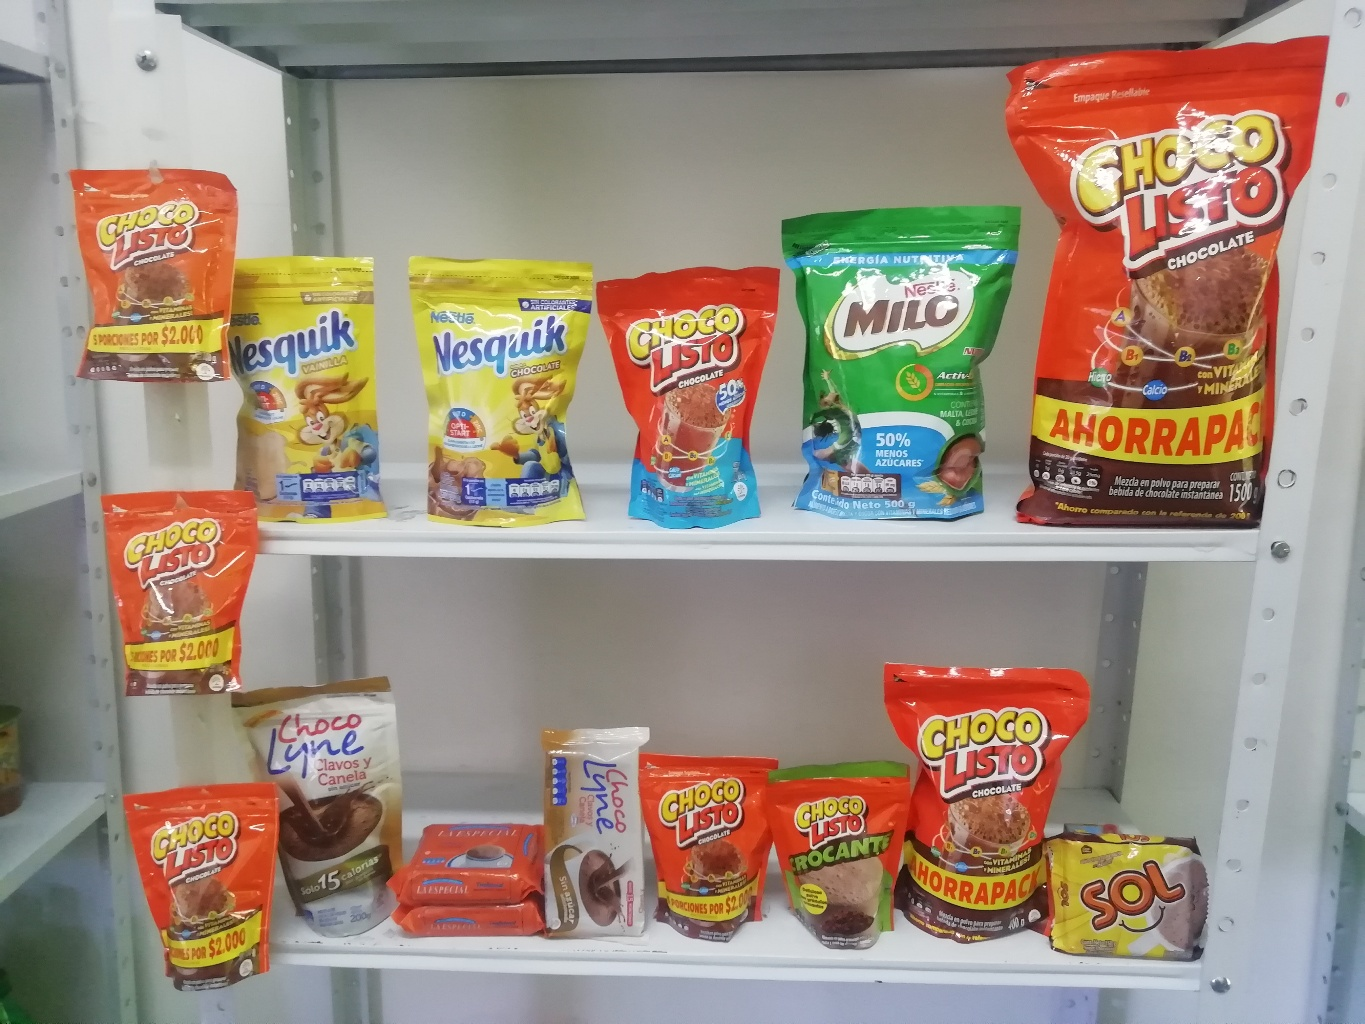COL0170102DYP10000: (764, 759, 914, 953)
COL0170103DYP1,500: (1003, 45, 1305, 534)
COL0170103DYP10000: (70, 161, 234, 384)
COL0170103DYP40000: (881, 658, 1092, 944)
COL0170104DYP20000: (593, 261, 784, 536)
COL0170205DYP50000: (778, 205, 1025, 523)
COL0170303DYP20000: (406, 253, 598, 528)
COL0170306DYP20000: (221, 255, 387, 526)
